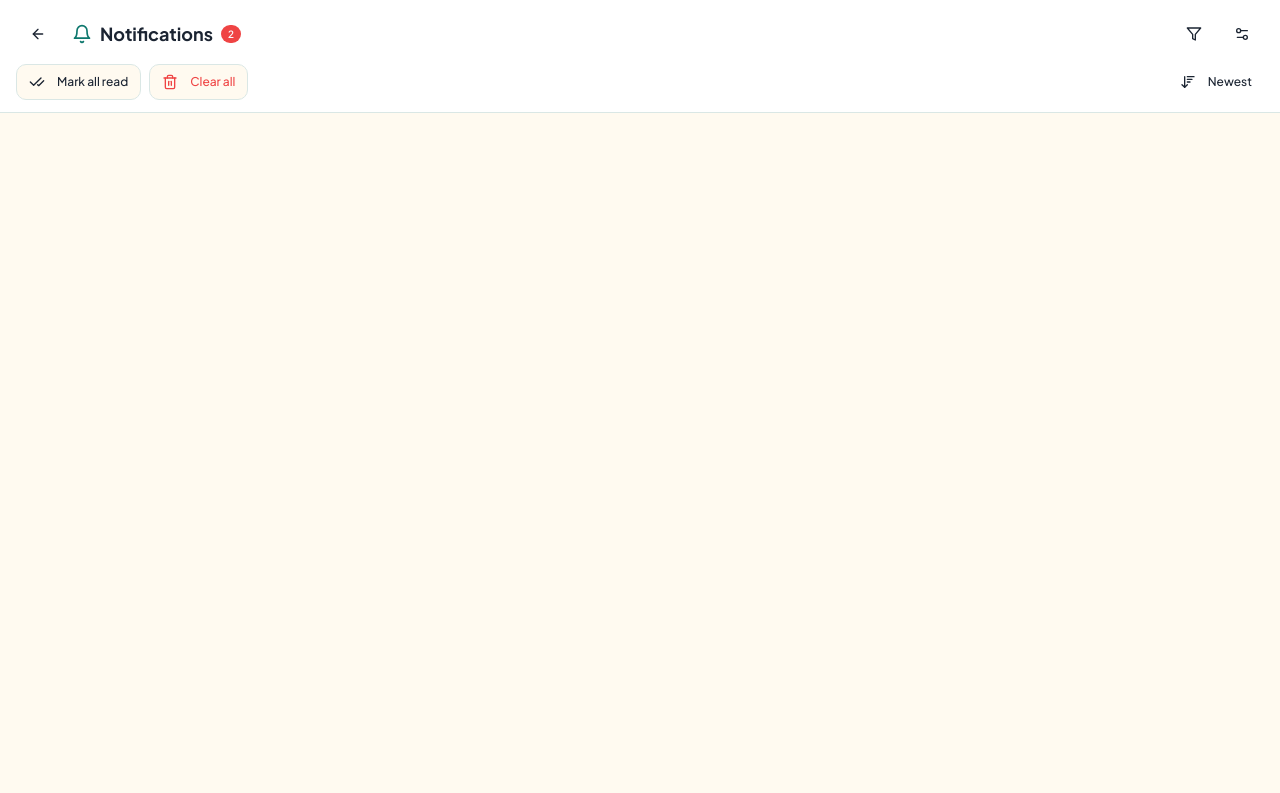
it: Notification filters › Notifications page filter by Read shows only read
The image size is (1280, 793).
Click the button named "Toggle filters": (1194, 34) [1172, 12, 1216, 56]
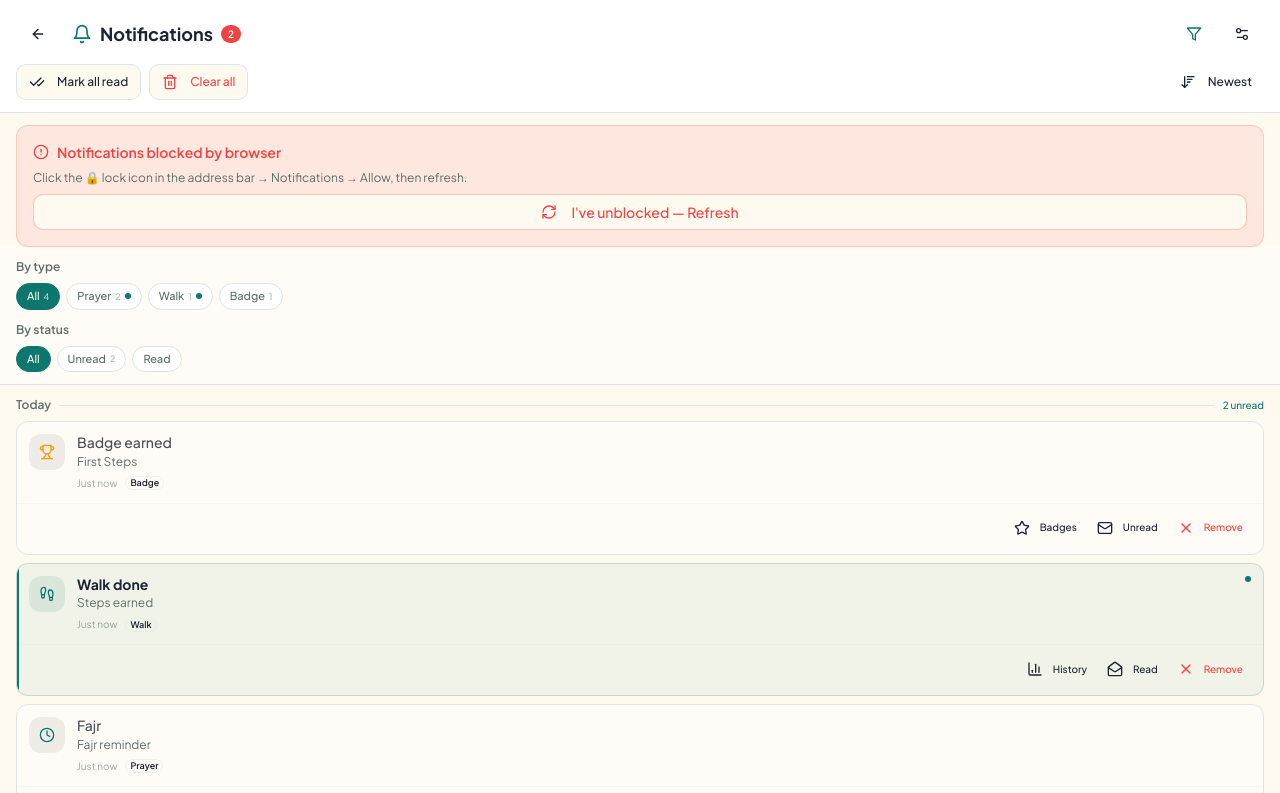
Click the button with test id "filter-status-read": (157, 359) [132, 346, 182, 372]
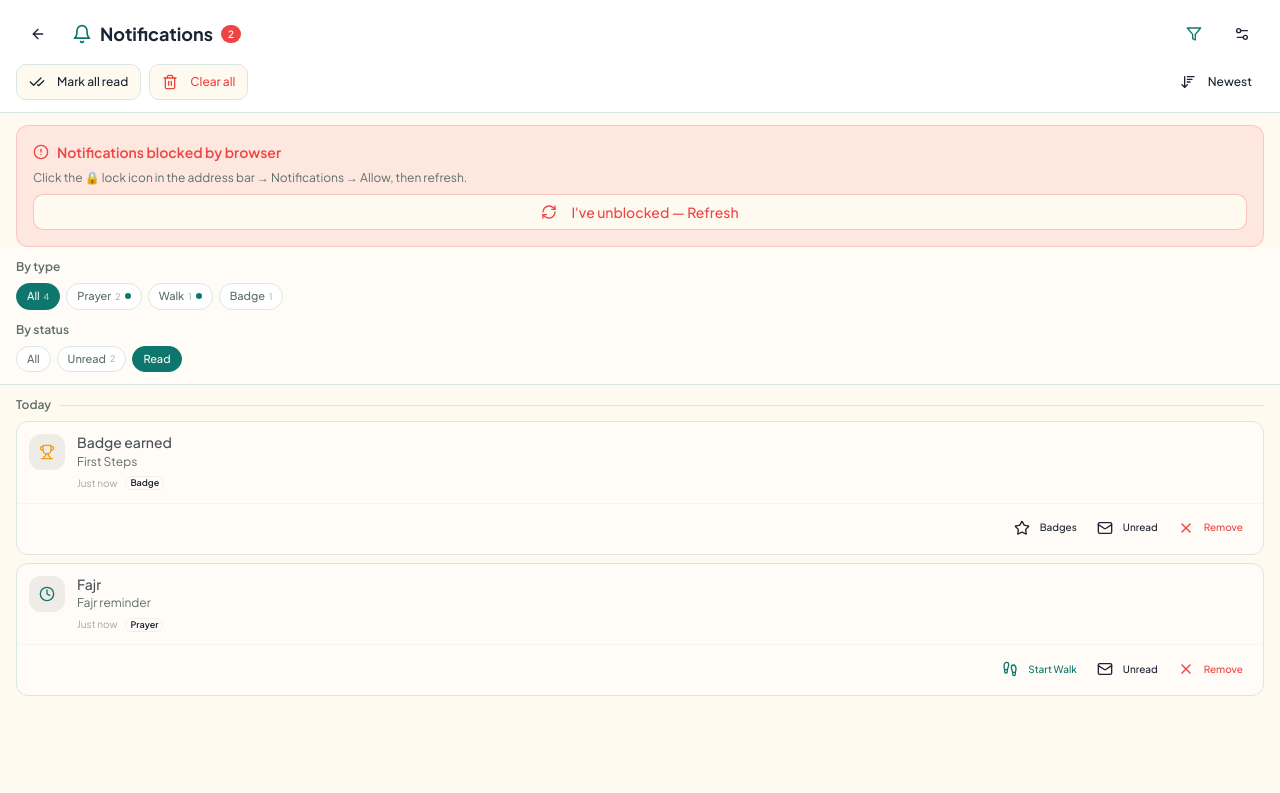
Expected: the text "Fajr" is shown, [77, 576, 101, 593]
Expected: the text "Badge earned" is shown, [77, 434, 172, 452]
Expected: the text "Walk done" is gone
